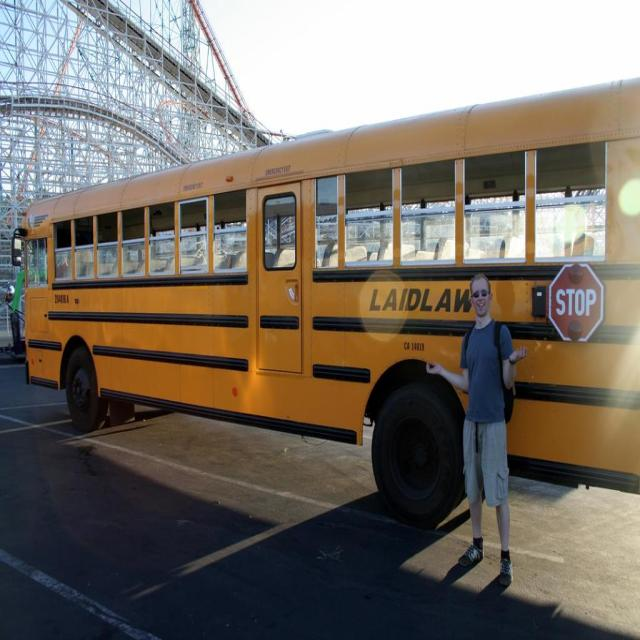Stop-sign: (548, 263, 606, 342)
